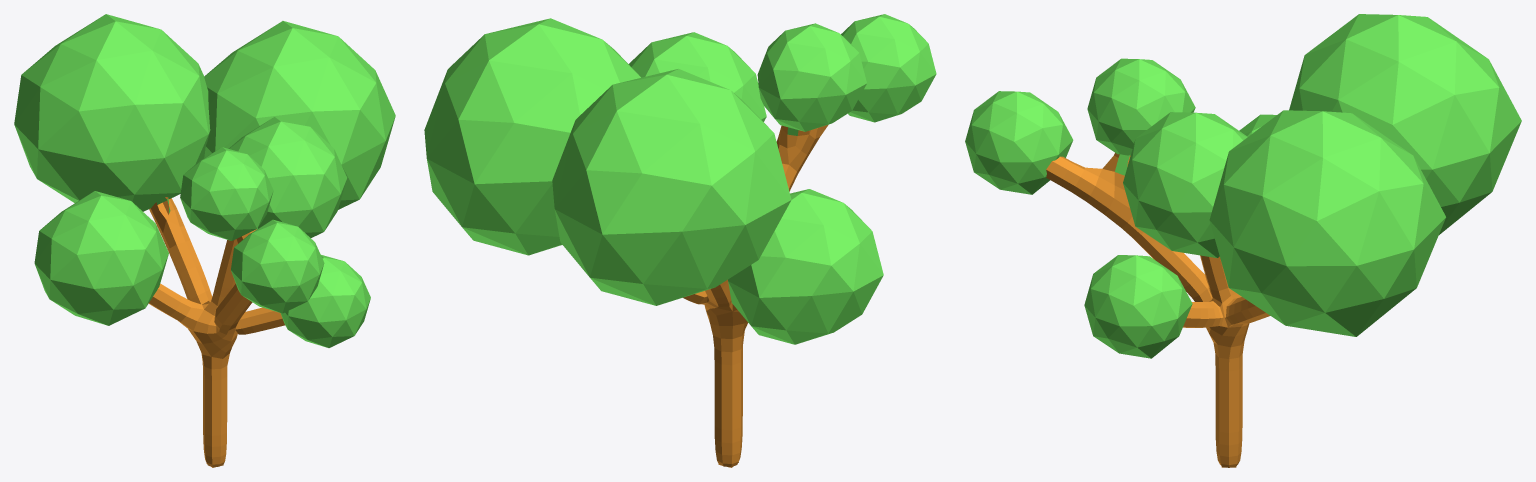
Rendered from Tree11.fbx.
3 renders of one model, left to right at view 1: azimuth 30°, elevation 25°; view 2: azimuth 150°, elevation 25°; view 3: azimuth 270°, elevation 25°, orthographic. The views are drawn at different scales.
Parts seen in each view (by area): view 1: Plane; view 2: Plane; view 3: Plane.
Part boxes in pixels (left/top/right/bottom): Plane: left=14, top=14, right=395, bottom=467; Plane: left=424, top=14, right=936, bottom=467; Plane: left=965, top=14, right=1521, bottom=467.
Size of the model in its own units: 773 by 817 by 944.
